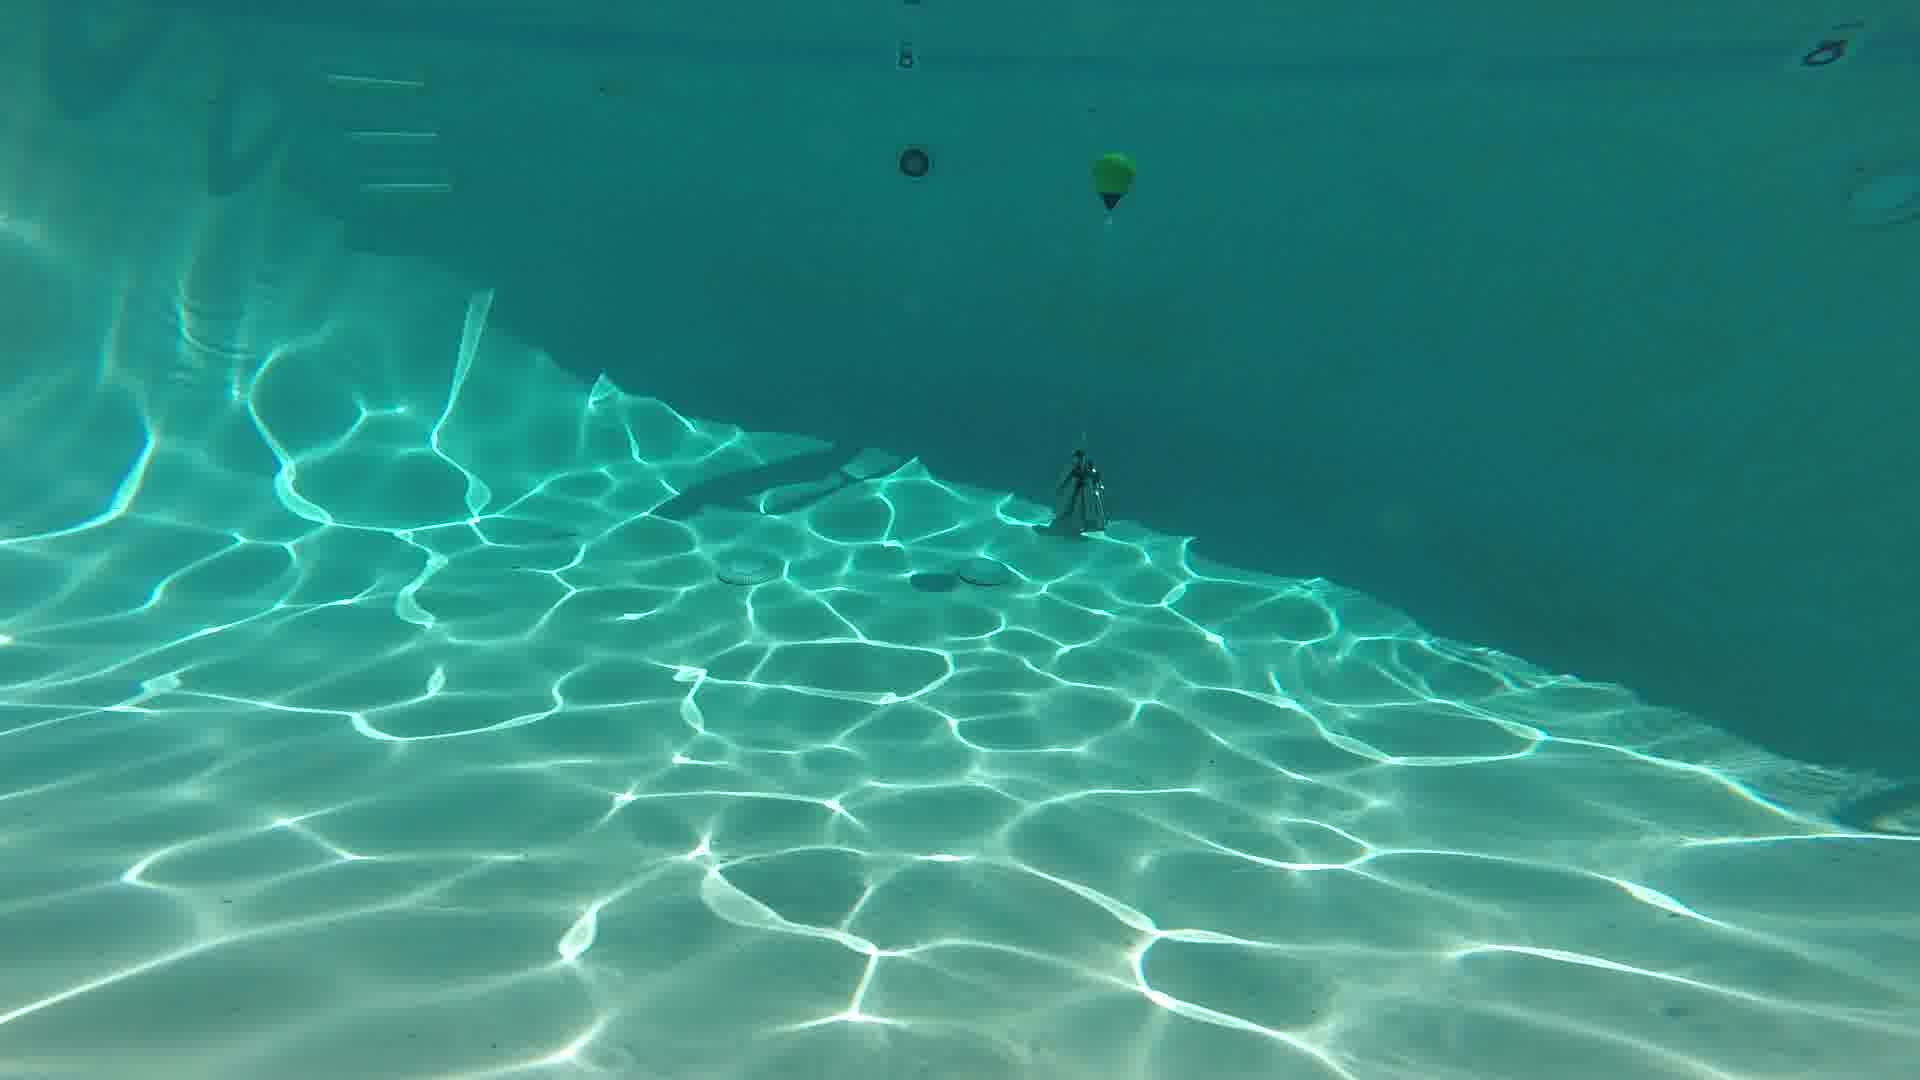yellow_buoy: (1095, 152, 1135, 208)
